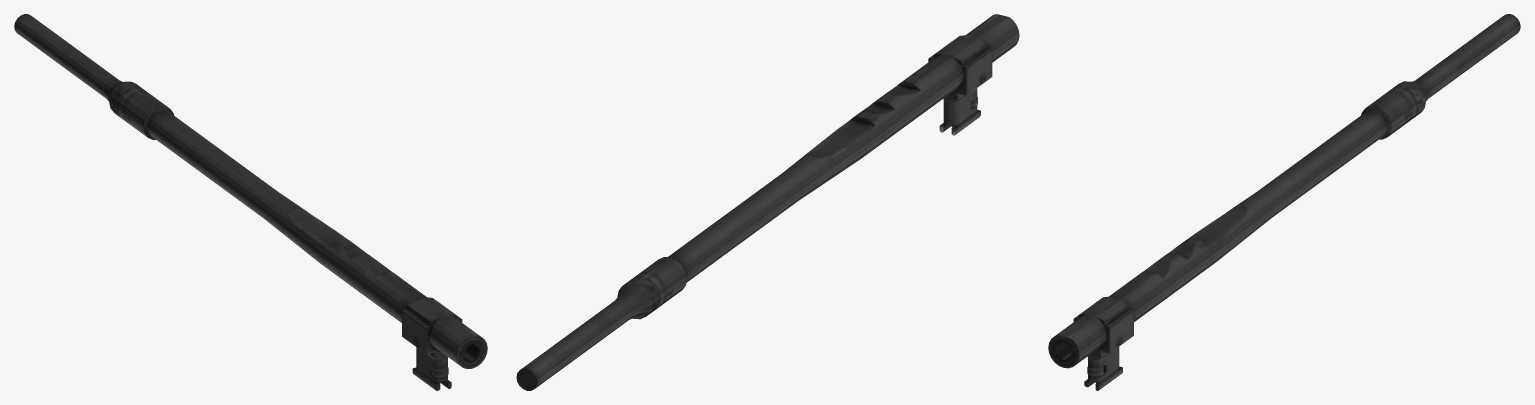
The picture shows the model from 3 angles, left to right: view 1: azimuth 30°, elevation 25°; view 2: azimuth 150°, elevation 25°; view 3: azimuth 330°, elevation 25°; orthographic projection. The views are drawn at different scales.
Visible parts, largest first — view 1: TW_65fb023261d5829b2d090755_PZ_Import; view 2: TW_65fb023261d5829b2d090755_PZ_Import; view 3: TW_65fb023261d5829b2d090755_PZ_Import.
Part boxes in pixels (x1,y1,x2,y2): TW_65fb023261d5829b2d090755_PZ_Import: [14, 14, 487, 390]; TW_65fb023261d5829b2d090755_PZ_Import: [516, 14, 1019, 390]; TW_65fb023261d5829b2d090755_PZ_Import: [1048, 14, 1520, 390].
Bounding box in the file's own units: 0.0124 × 0.2677 × 0.0248.
1 material, 1 textured.
